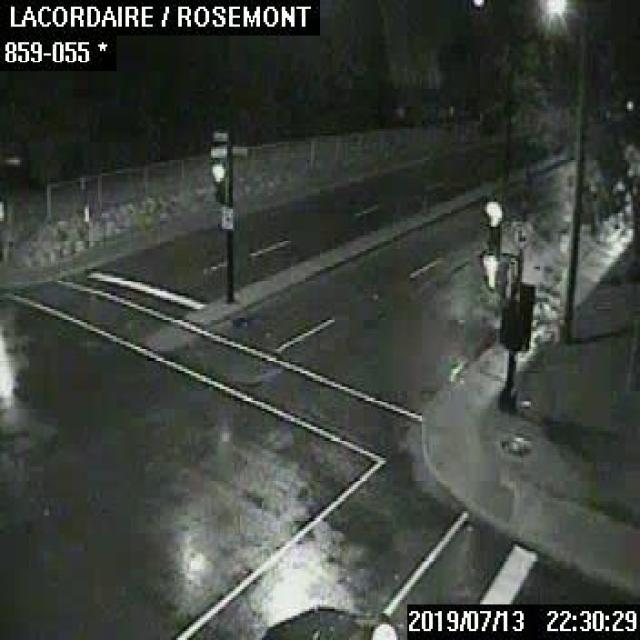vehicle: (260, 604, 404, 638)
